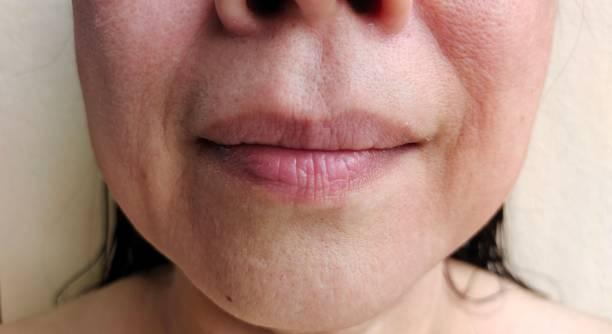Dry-Skin: (208, 217, 417, 320), (438, 7, 548, 200)
